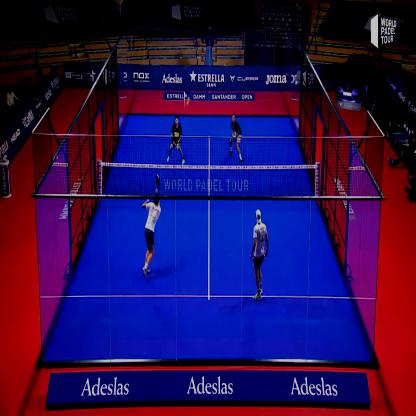ball: (185, 92, 193, 112)
